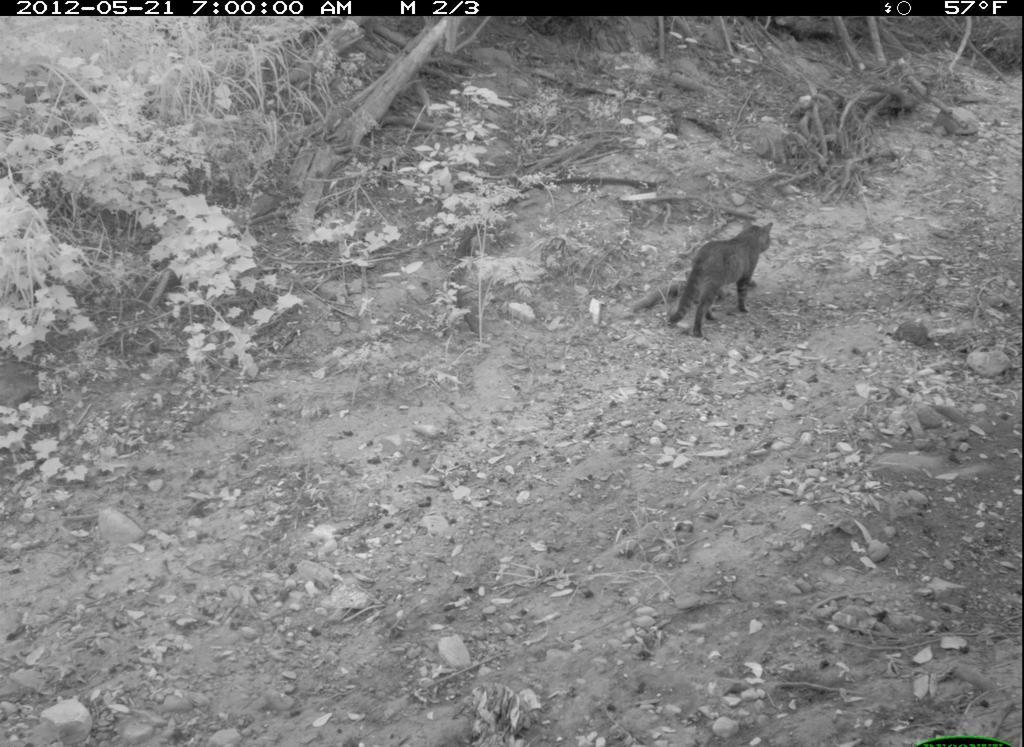cat: (664, 213, 780, 345)
